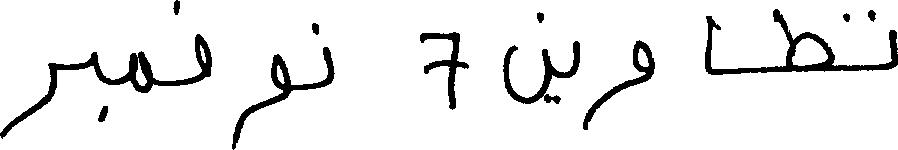X: (586, 35, 654, 134), (233, 49, 289, 149), (0, 58, 57, 143), (503, 7, 550, 108), (420, 27, 468, 114), (775, 4, 832, 76), (131, 46, 150, 97), (87, 47, 98, 125), (196, 29, 210, 86), (322, 42, 334, 91), (704, 11, 712, 79), (888, 25, 897, 74), (574, 36, 580, 79)
